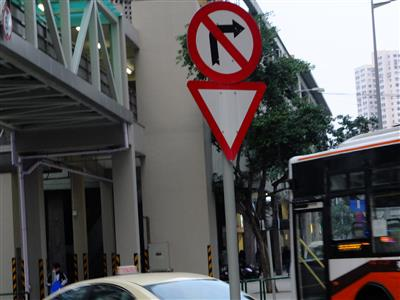noRightTurn: (183, 0, 261, 82)
yield: (185, 77, 269, 164)
